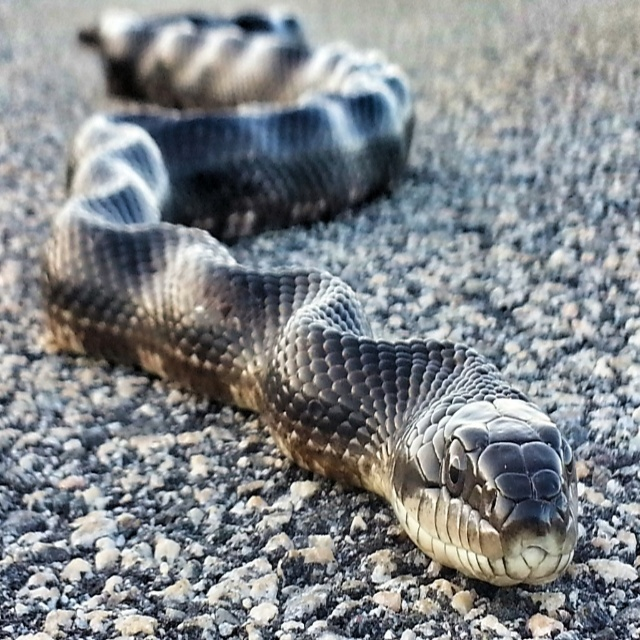Snake: (40, 0, 576, 587)
